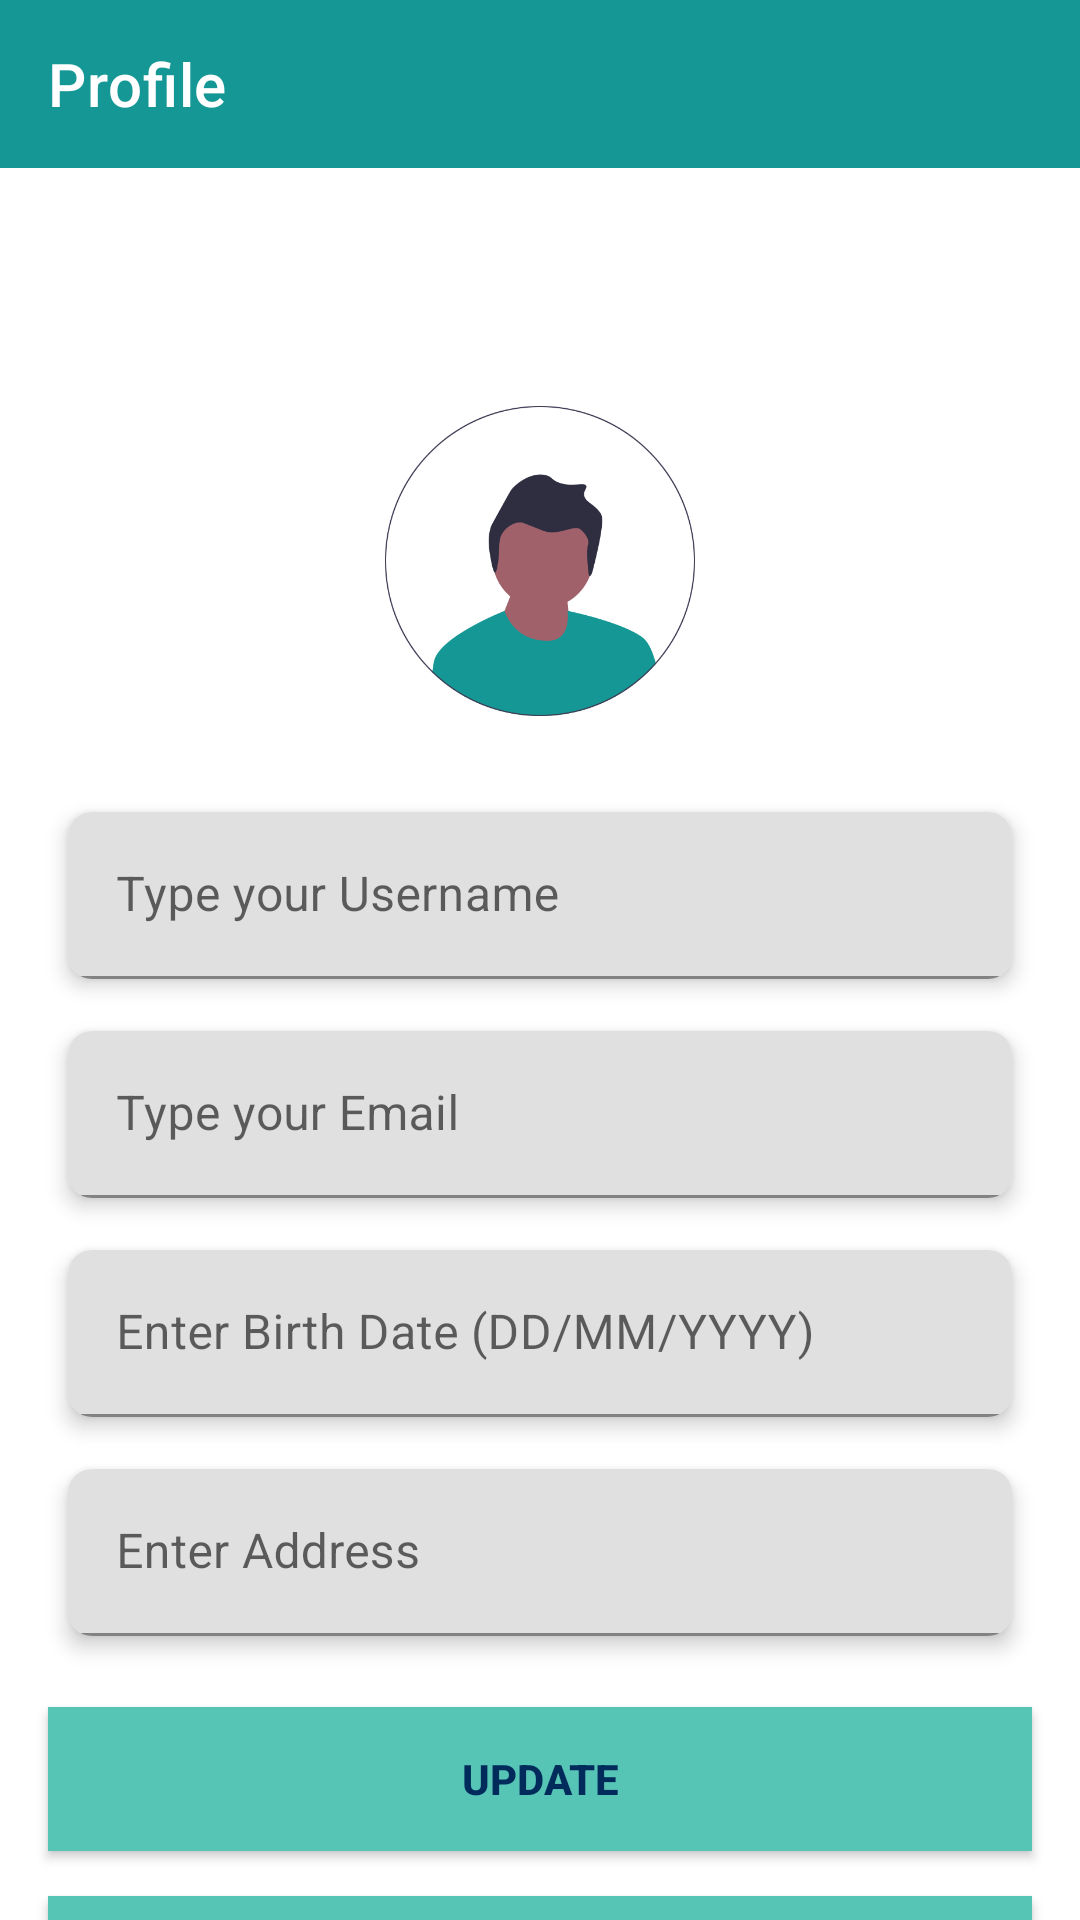

Screen size 1080 x 1920. Icon name, then its box in pixels as (x1, y1, x2, y2):
profile: (385, 406, 695, 716)
